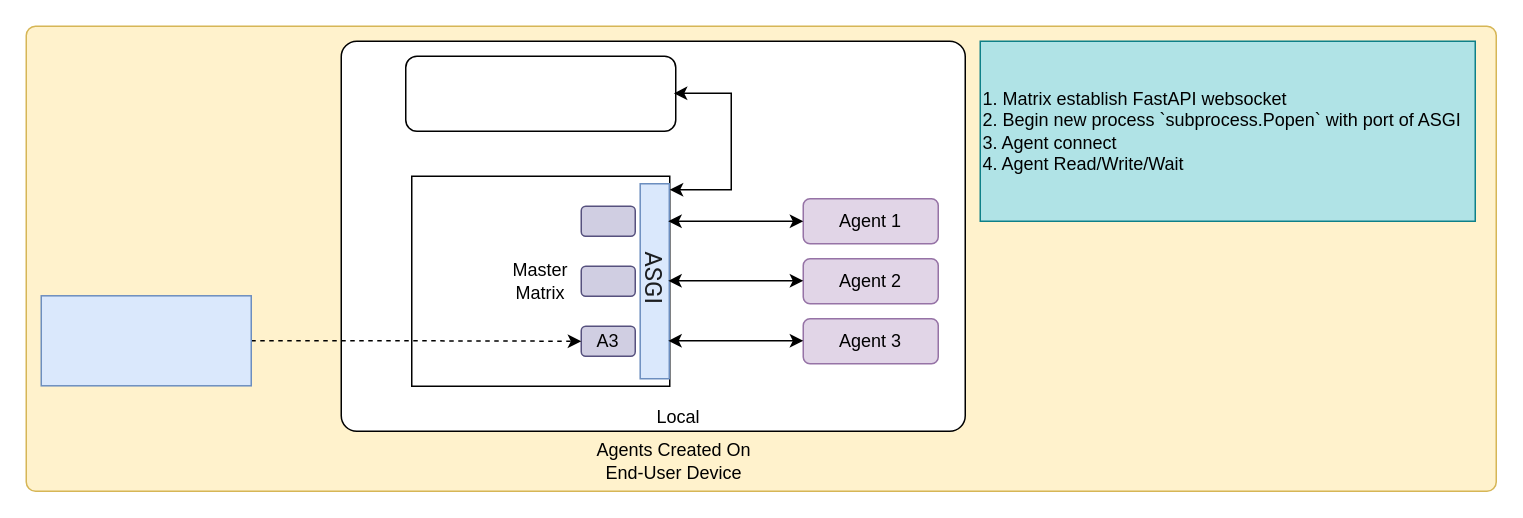
Some shapes in this 1523 by 518 pixel diagram are drawn without their labels. The shapes that lost their labels are listed below. From the top down, each one's centre as x and y in pixels, then its label:
At (540,93): "AgentCraft (Unreal Engine 5)".
At (607,220): "A1".
At (607,280): "A2".
At (145,340): "agent proxy inside matrix".
